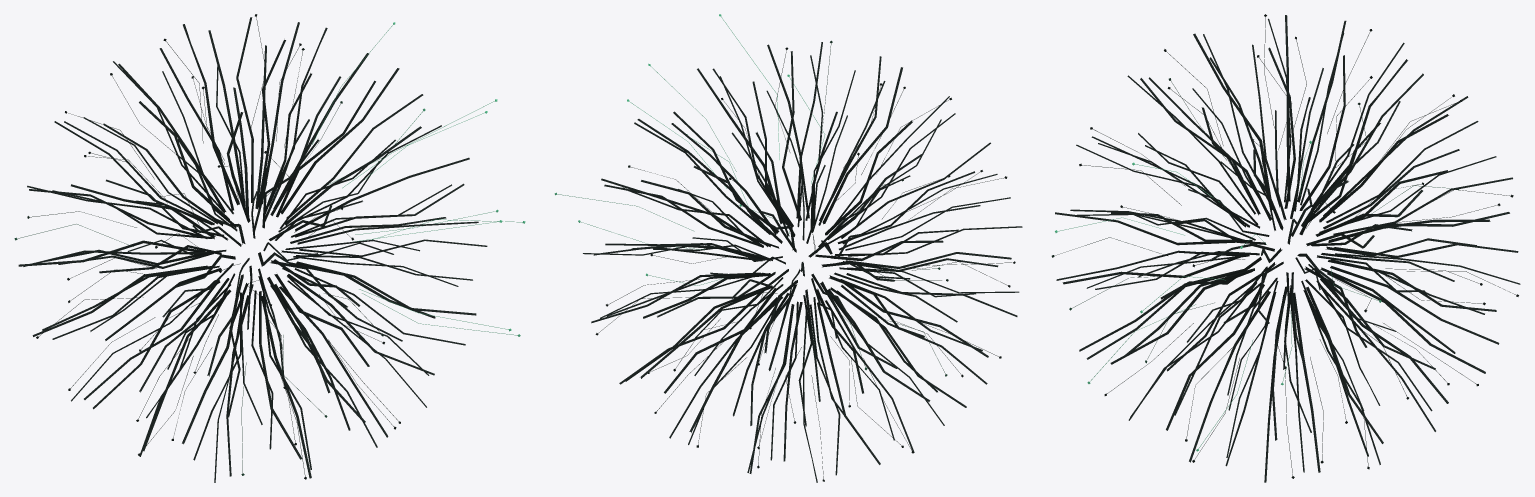
The model's file is senzai_kk02_d0_lod2.glb.
3 renders of one model, left to right at view 1: azimuth 30°, elevation 25°; view 2: azimuth 150°, elevation 25°; view 3: azimuth 270°, elevation 25°, orthographic. The views are drawn at different scales.
Parts seen in each view (by area): view 1: DISTANCE_SURFACE; view 2: DISTANCE_SURFACE; view 3: DISTANCE_SURFACE.
Boxes of the visible parts, x1,y1,x2,y2 form: DISTANCE_SURFACE: [14, 14, 525, 482]; DISTANCE_SURFACE: [554, 14, 1022, 482]; DISTANCE_SURFACE: [1051, 14, 1520, 482].
Size of the model in its own units: 34.91 by 31.72 by 31.84.
